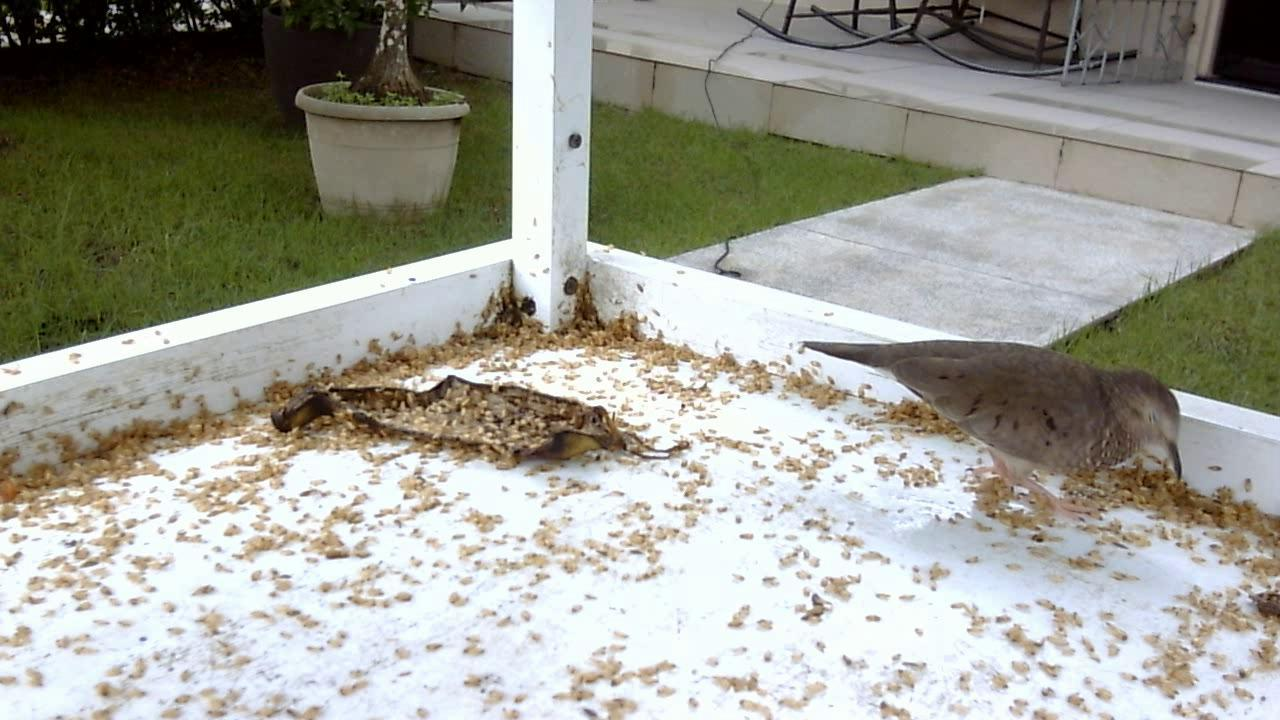rolinha: (786, 307, 1191, 501)
